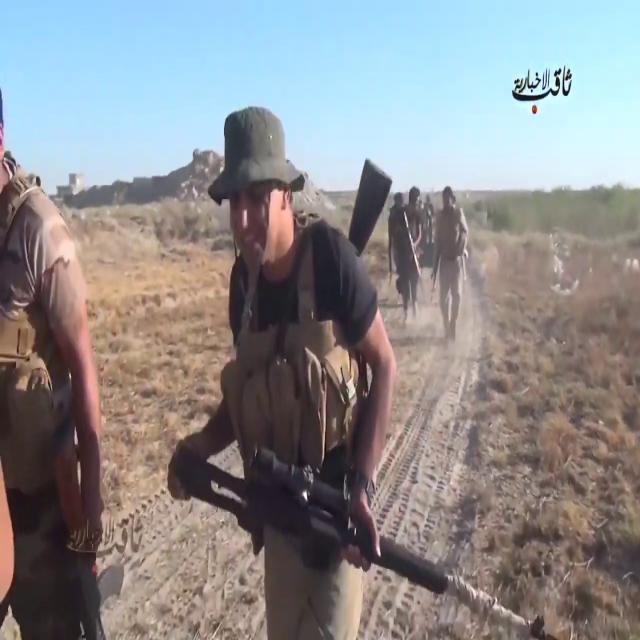long weapon: (158, 440, 560, 639)
